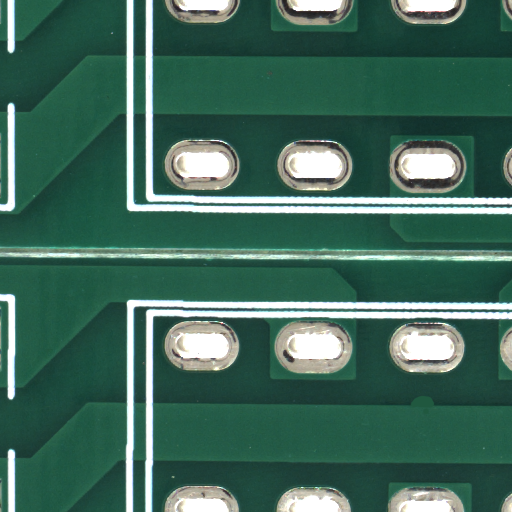Spur: (421, 401, 445, 413)
